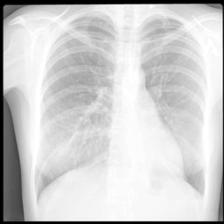tuberculosis: (31, 10, 211, 198)
